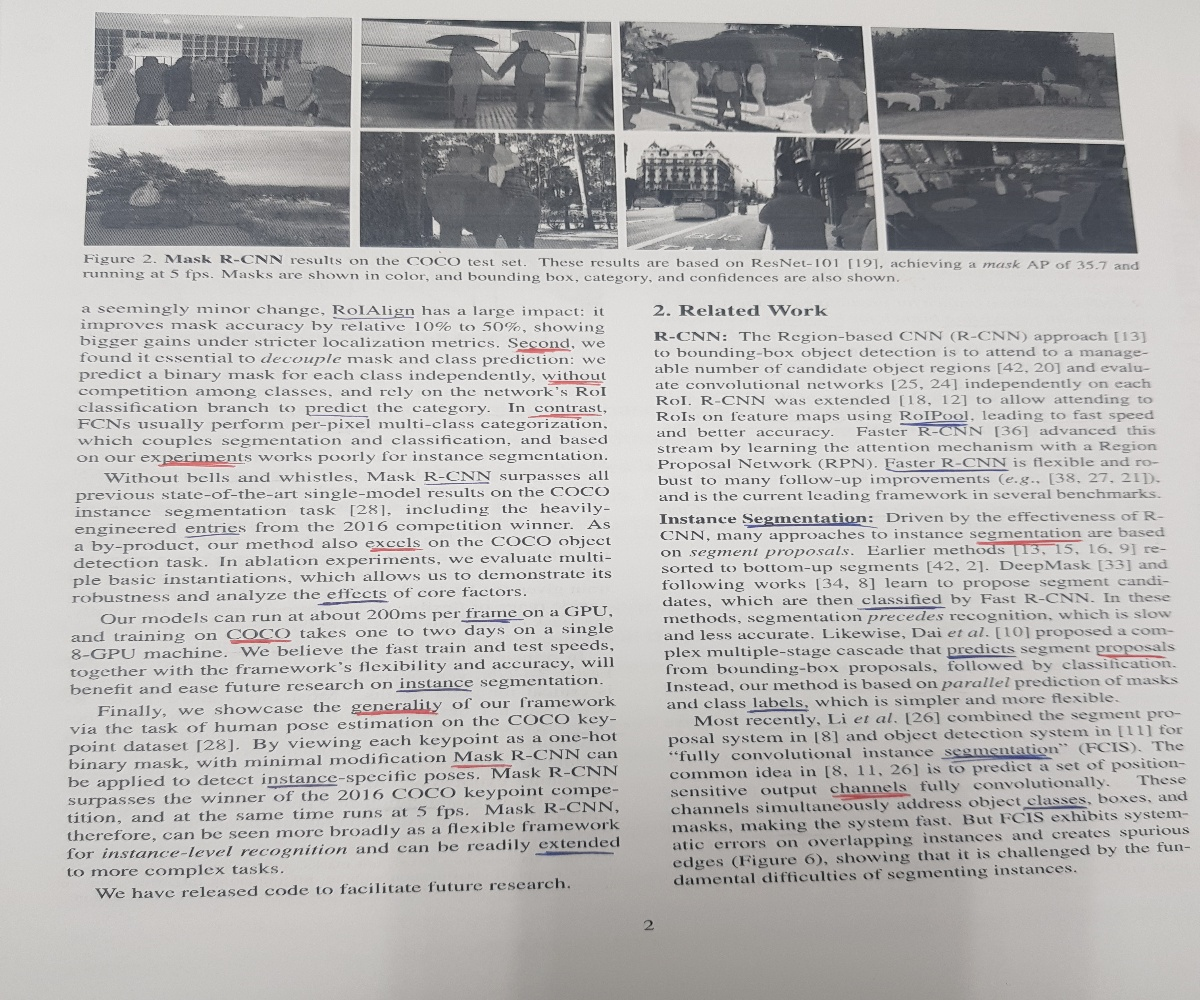underline: (973, 536, 1082, 548), (939, 753, 1054, 764), (330, 312, 418, 324), (741, 521, 871, 529), (882, 466, 1009, 474), (157, 460, 244, 471), (1095, 649, 1169, 661), (526, 410, 603, 421), (533, 848, 617, 858), (546, 375, 607, 388), (316, 597, 390, 607), (226, 636, 299, 646), (898, 418, 971, 428), (460, 615, 526, 626), (351, 709, 440, 717), (855, 603, 944, 611), (944, 652, 1018, 661), (513, 345, 573, 356), (828, 792, 910, 800), (450, 760, 515, 770), (394, 685, 475, 693), (305, 411, 370, 420), (744, 706, 808, 715), (421, 479, 490, 487), (182, 530, 242, 539), (1021, 804, 1088, 812), (264, 783, 340, 790), (365, 545, 422, 554)
